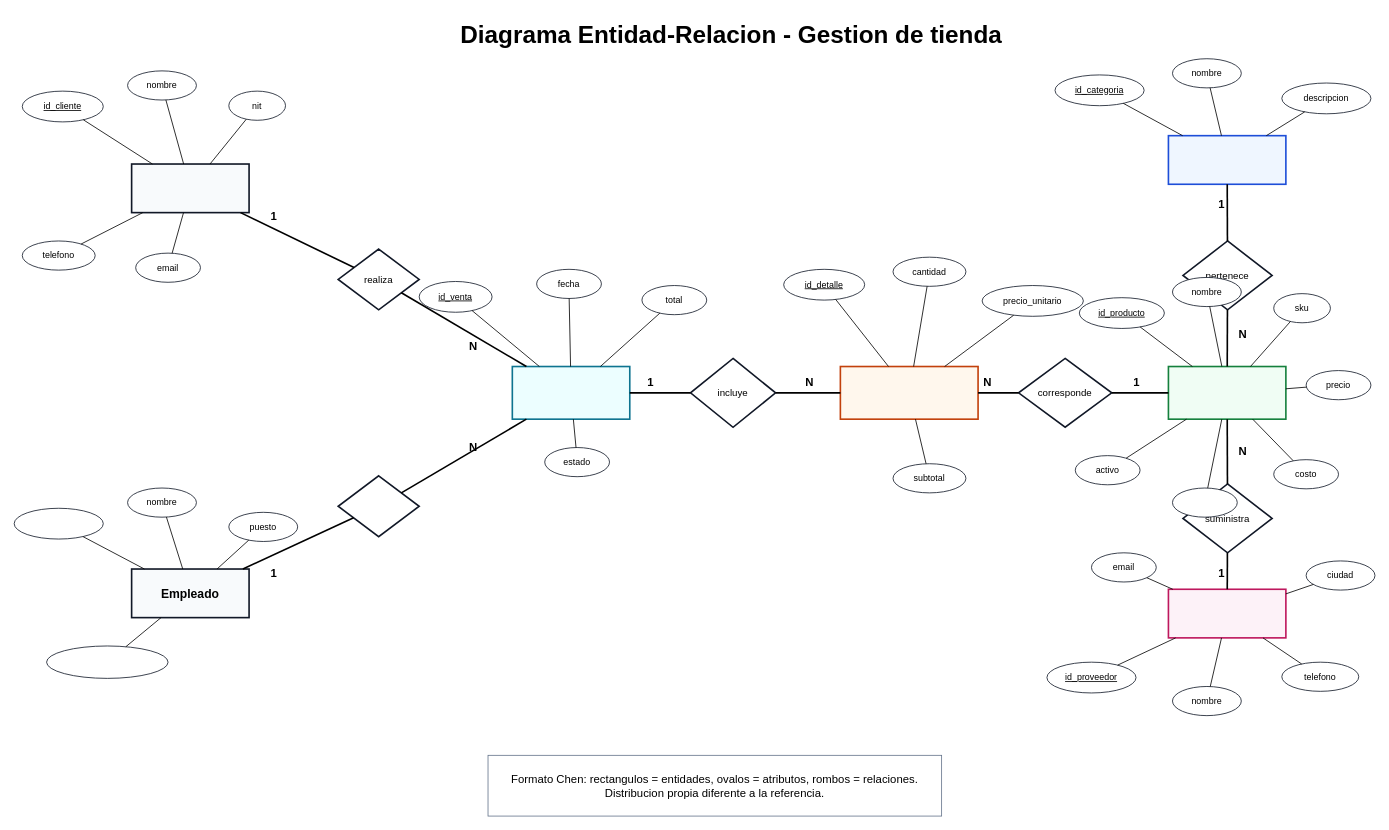
Image size: 1389x830. Some labels were removed from this diagram. Here are the shapes that lost their labels. From the top down, the centre of each, then its label:
At [1226,159]: "Categoria".
At [189,188]: "Cliente".
At [570,392]: "Venta".
At [908,392]: "Detalle_venta".
At [1226,392]: "Producto".
At [378,506]: "atiende".
At [1204,502]: "stock".
At [58,523]: "id_empleado".
At [1226,613]: "Proveedor".
At [107,661]: "fecha_contratacion".
